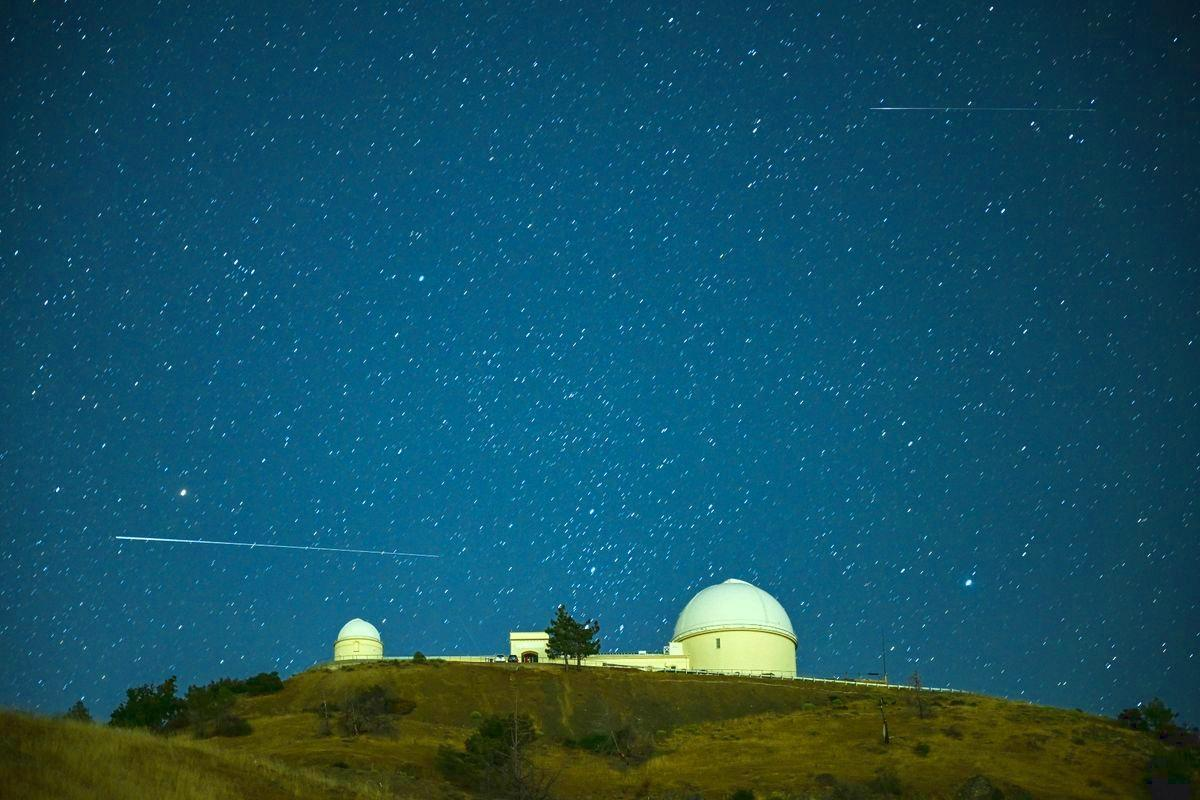meteorite: (882, 103, 1106, 133), (92, 529, 296, 552)
